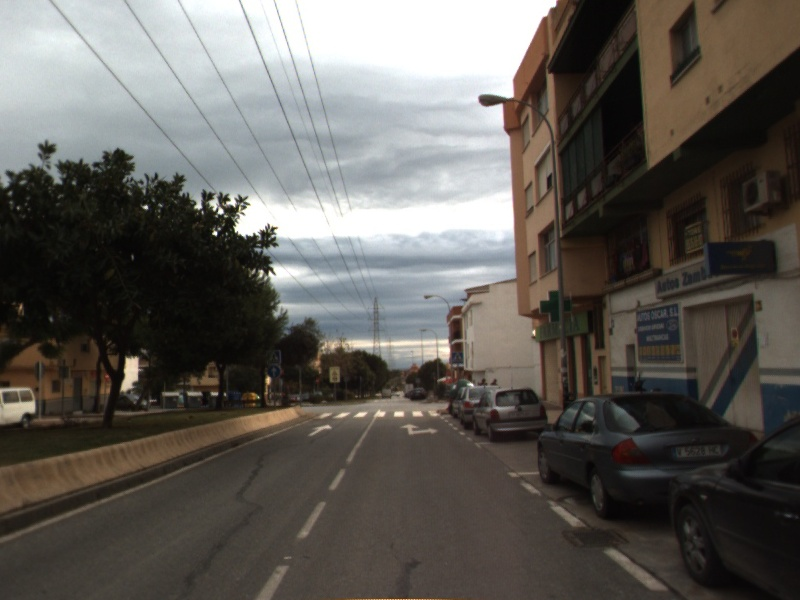STRAIGHT: (306, 422, 334, 438)
STRAIGHT_RIGHT: (398, 422, 440, 437)
